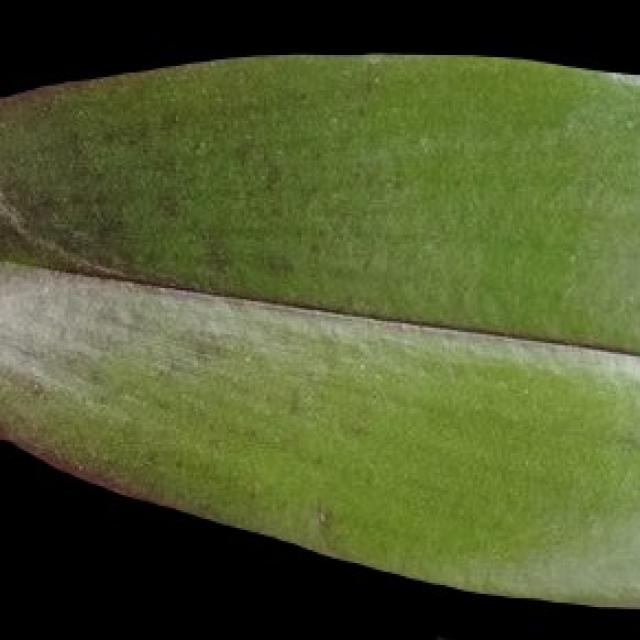mite: (308, 499, 336, 534), (315, 506, 330, 530)
spots: (0, 48, 638, 611)
